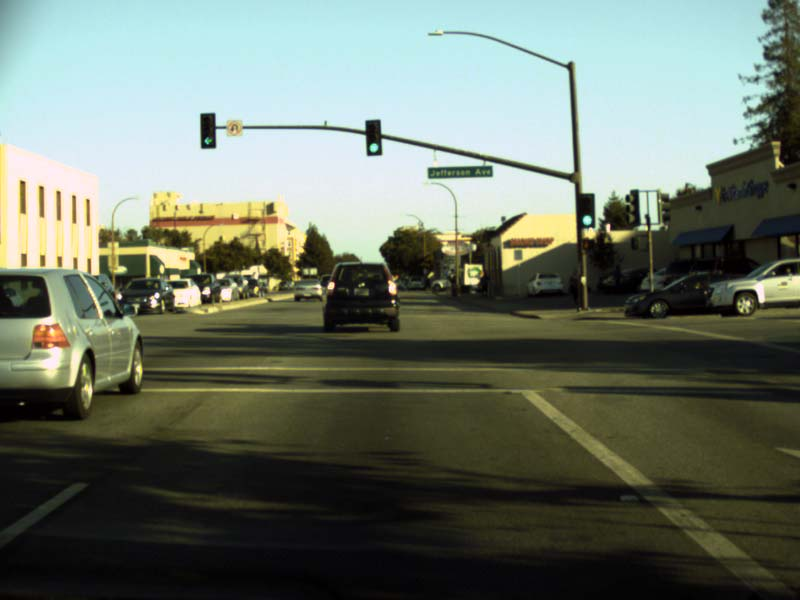Green: (577, 193, 594, 227), (200, 113, 215, 148), (366, 120, 380, 155)
